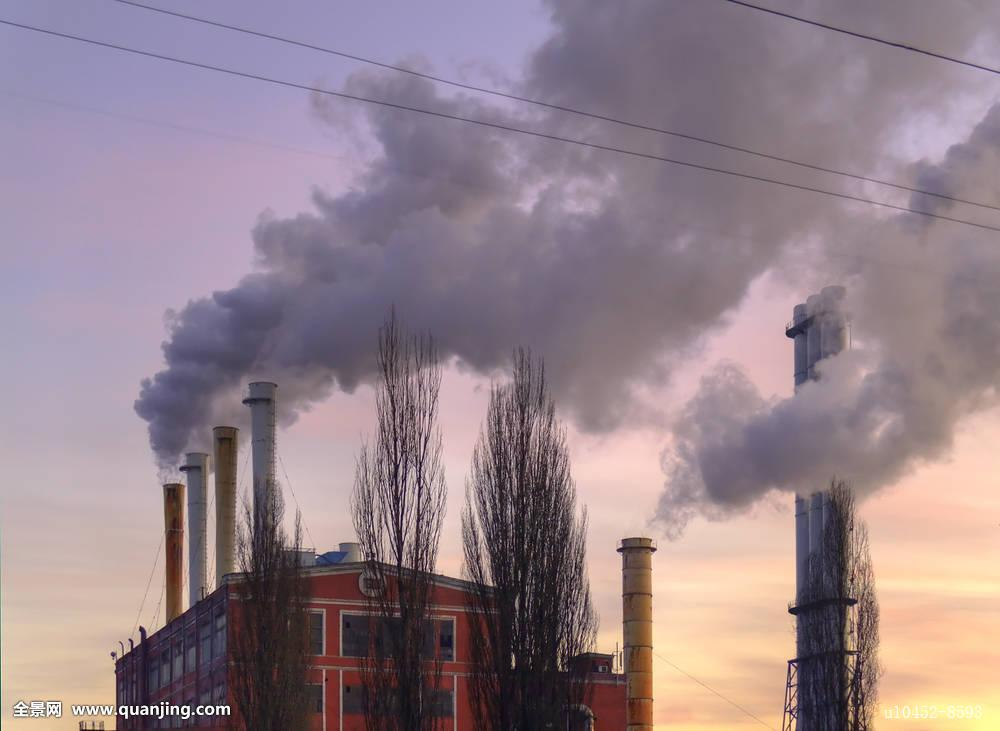dust: (134, 208, 468, 480), (609, 361, 898, 578)
